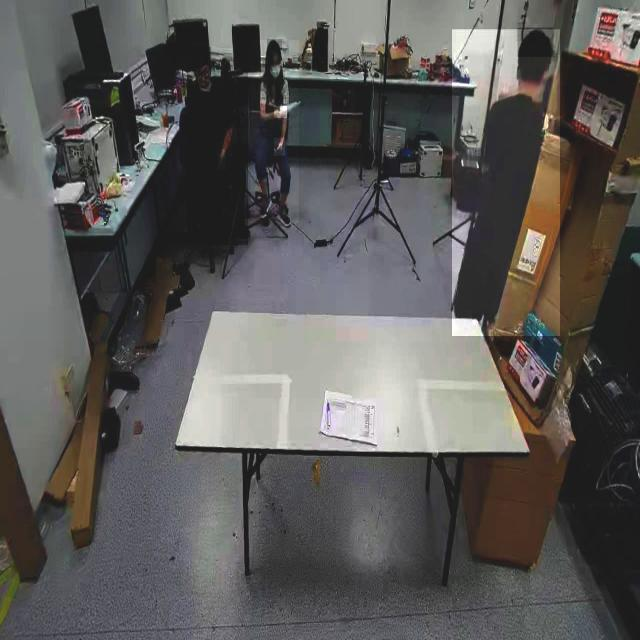face_mask: (268, 64, 284, 79)
face_nomask: (196, 66, 212, 93)
hand_noglove: (273, 138, 285, 156), (273, 106, 287, 119), (217, 149, 225, 171)
head_nohelmet: (517, 28, 553, 58), (193, 47, 211, 66), (266, 39, 282, 53)
person: (452, 29, 560, 337), (186, 60, 248, 246), (250, 40, 299, 224)
shoes: (273, 195, 293, 232), (256, 188, 273, 224)
